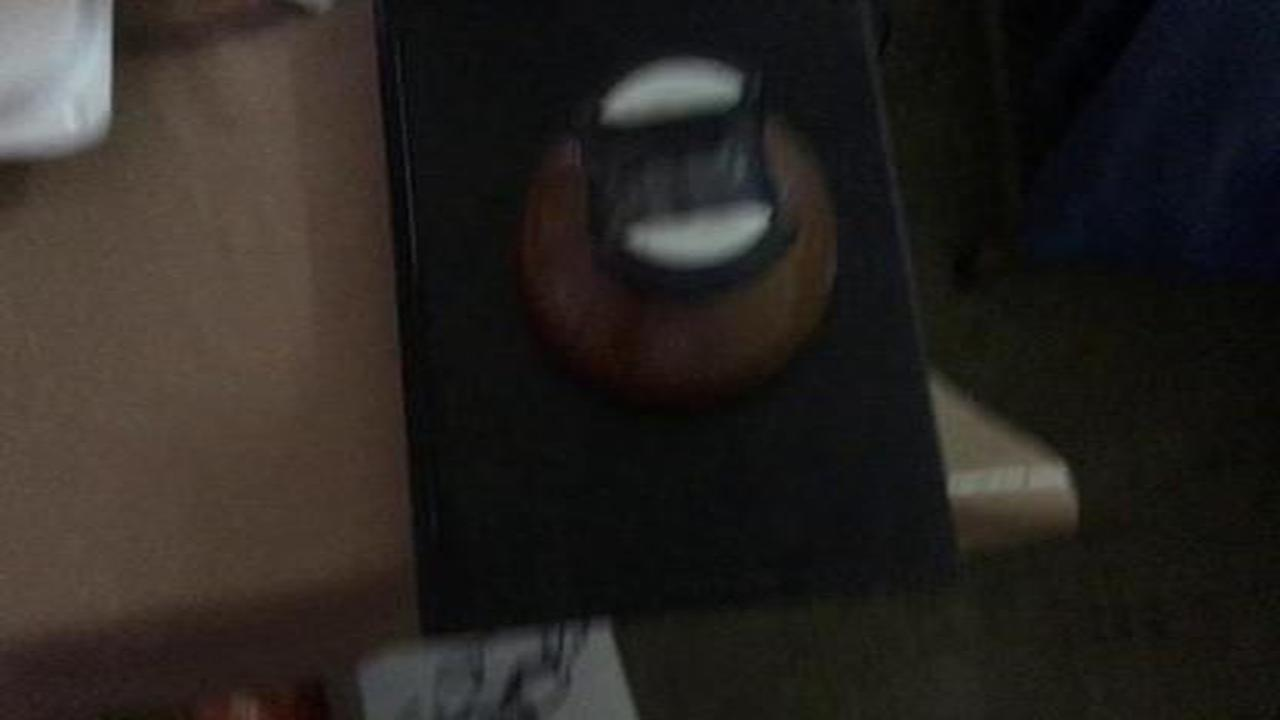insulator_pin: (496, 40, 874, 418)
